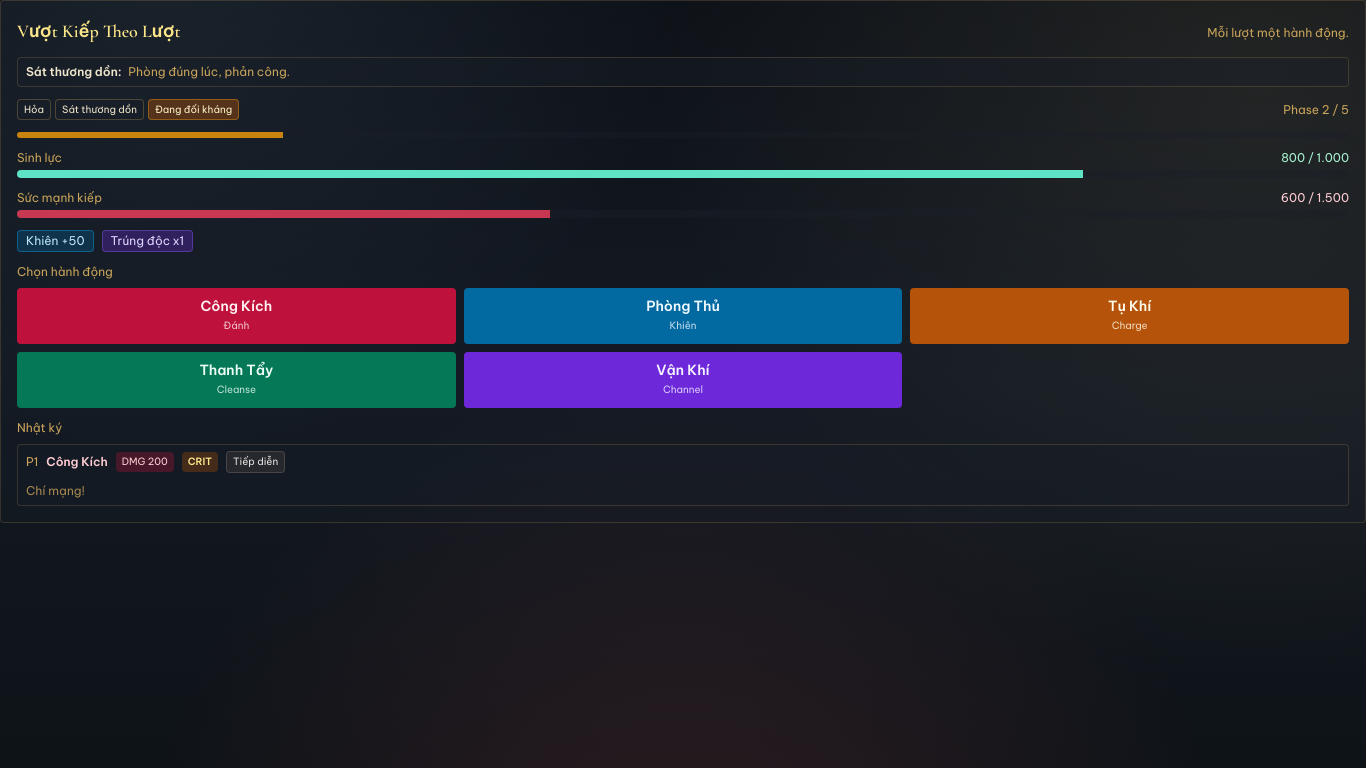
Test: TribulationMiniBattlePanel — render & interactions › 7. win result modal renders sau resolve
Step 1. Click the button with test id "tribulation-mini-battle-action-attack" → (236,316), box [17,288,456,344]
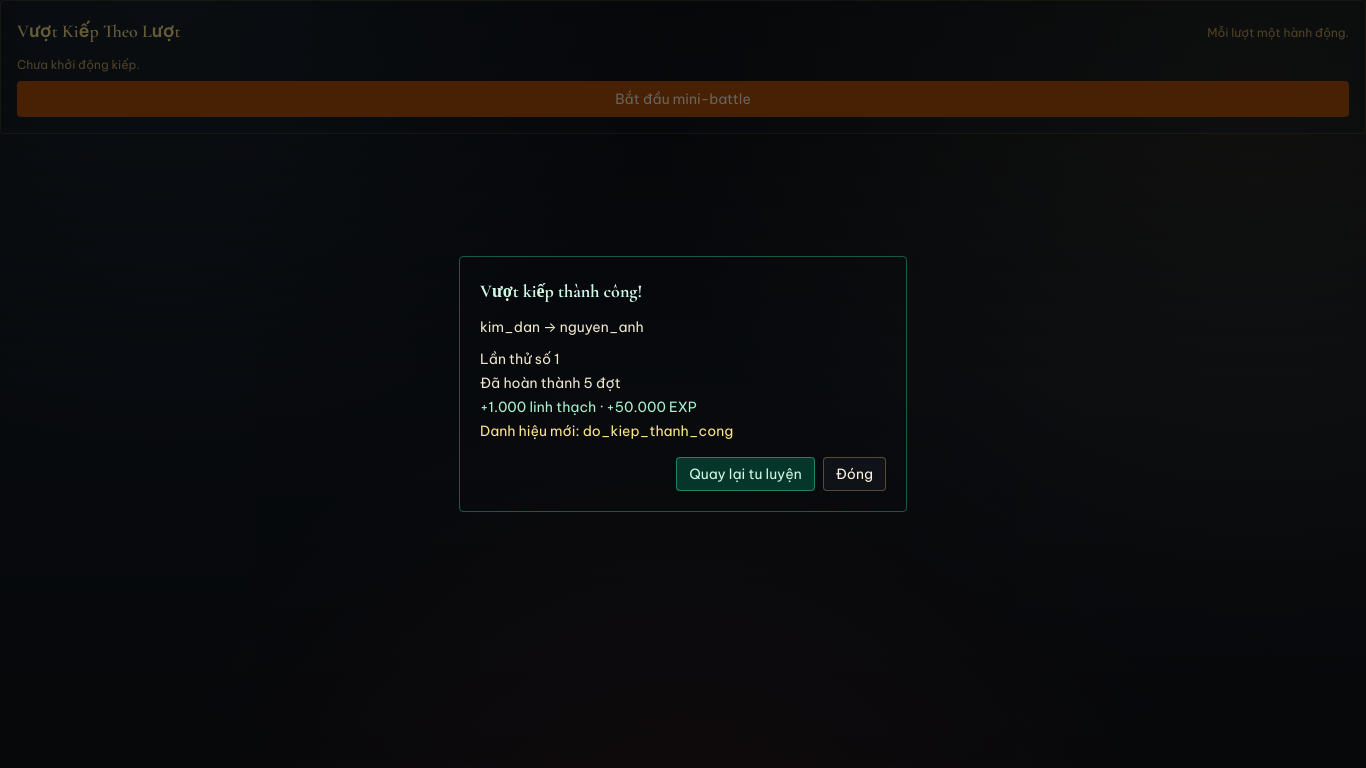
expect the dialog with test id "tribulation-mini-battle-result-modal" is shown: met
expect the dialog with test id "tribulation-mini-battle-result-modal" shows "Vượt kiếp thành công!": met, box [480,280,642,302]
expect the button with test id "tribulation-mini-battle-result-return-cultivation" is shown: met, box [676,457,815,491]
